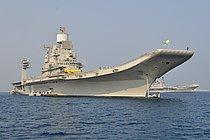MIL_Ship: (11, 27, 194, 97), (147, 76, 202, 93)
